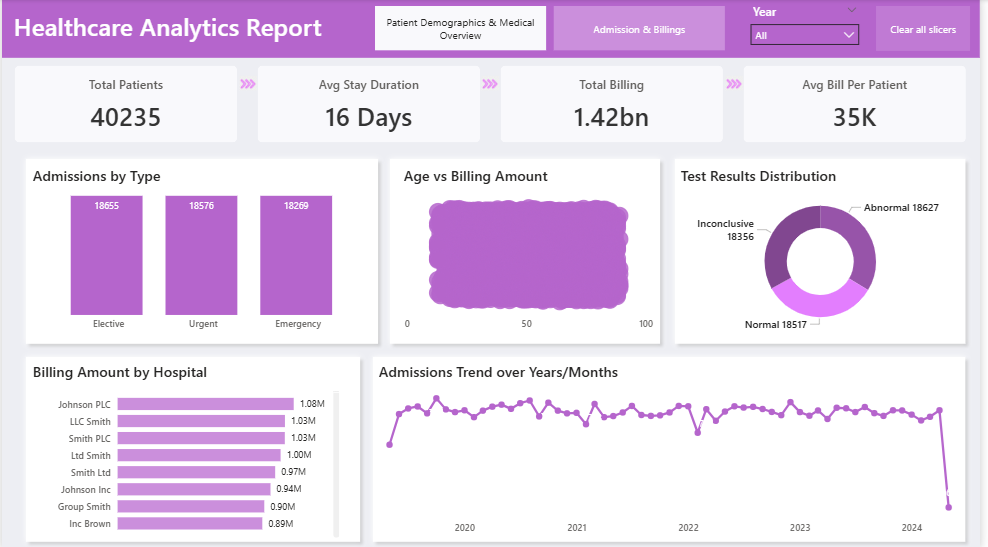

The dashboard page shown, as its layout file describes it:
{"tool":"powerbi","page":{"name":"Admission & Billings","canvas":[1280,720],"ordinal":1},"visuals":[{"type":"shape","box":[0,0,1280,77.3],"z":0},{"type":"textbox","box":[10.1,8.4,450.2,58.8],"z":1000},{"type":"cardVisual","fields":{"Data":["Measures_Table.Total Patients","Measures_Table.Avg Stay Duration","Measures_Table.Total Billing","Measures_Table.Avg Bill Per Patient"]},"box":[11.8,82.3,1257.8,110.2],"z":2000},{"type":"shape","box":[22,199.8,479,260.1],"z":3000},{"type":"hundredPercentStackedColumnChart","title":"Admissions by Type","fields":{"Category":["healthcare_dataset.Admission Type"],"Y":["healthcare_dataset.Name"]},"box":[35,218.3,456.7,225],"z":4000},{"type":"shape","box":[499.3,200,371.7,260],"z":5000},{"type":"scatterChart","title":"Age vs Billing Amount","fields":{"X":["healthcare_dataset.Age"],"Y":["healthcare_dataset.Billing Amount"],"Size":["Measures_Table.Total Patients"]},"box":[521,218.3,336.7,225],"z":6000},{"type":"shape","box":[871.7,200,398.3,260],"z":7000},{"type":"donutChart","title":"Test Results Distribution","fields":{"Category":["healthcare_dataset.Test Results"],"Y":["healthcare_dataset.Test Results"]},"box":[883.3,218.3,375,225],"z":8000},{"type":"shape","box":[22,459.9,455.5,260.1],"z":9000},{"type":"shape","box":[476.1,459.9,793.5,260.1],"z":10000},{"type":"clusteredBarChart","title":"Billing Amount by Hospital","fields":{"Category":["healthcare_dataset.Hospital"],"Y":["healthcare_dataset.Billing Amount"]},"box":[35.3,474.6,411.4,235.1],"z":11000},{"type":"lineChart","title":"Admissions Trend over Years/Months","fields":{"Category":["Date Table.Date.Variation.Date Hierarchy.Year","Date Table.Date.Variation.Date Hierarchy.Month"],"Y":["Measures_Table.Total Patients"]},"box":[487.8,474.6,770,235.1],"z":12000},{"type":"image","box":[288,95.5,69.1,29.4],"z":16000},{"type":"image","box":[605.4,95.5,69.1,29.4],"z":17000},{"type":"image","box":[924.2,95.5,69.1,29.4],"z":18000},{"type":"slicer","fields":{"Values":["Date Table.Year"]},"box":[969.8,0,161.6,67.6],"z":18001},{"type":"pageNavigator","box":[487.8,8.8,458.4,58.8],"z":18002},{"type":"actionButton","box":[1144.7,8.8,123.4,58.8],"z":18003}]}

Visuals, with their boxes in screenshot pixels (x1, y1, x2, y2), scaled from the page's 1280x720 canvas onto the 988x547 screenshot:
shape: bbox=[0, 0, 987, 59]
textbox: bbox=[8, 6, 355, 51]
cardVisual - Measures_Table.Total Patients x Measures_Table.Avg Stay Duration: bbox=[9, 63, 980, 146]
shape: bbox=[17, 152, 387, 349]
"Admissions by Type" hundredPercentStackedColumnChart: bbox=[27, 166, 380, 337]
shape: bbox=[385, 152, 672, 349]
"Age vs Billing Amount" scatterChart: bbox=[402, 166, 662, 337]
shape: bbox=[673, 152, 980, 349]
"Test Results Distribution" donutChart: bbox=[682, 166, 971, 337]
shape: bbox=[17, 349, 369, 546]
shape: bbox=[367, 349, 980, 546]
"Billing Amount by Hospital" clusteredBarChart: bbox=[27, 361, 345, 539]
"Admissions Trend over Years/Months" lineChart: bbox=[377, 361, 971, 539]
image: bbox=[222, 73, 276, 95]
image: bbox=[467, 73, 521, 95]
image: bbox=[713, 73, 767, 95]
slicer - Date Table.Year: bbox=[749, 0, 873, 51]
pageNavigator: bbox=[377, 7, 730, 51]
actionButton: bbox=[884, 7, 979, 51]
